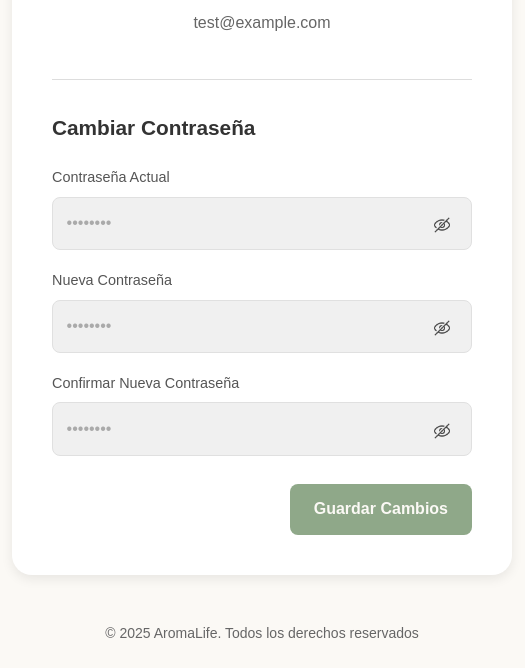
Scenario: UserProfilePage › debería mostrar errores si los campos de contraseña están vacíos al enviar el formulario
(page scrolled)
Click the button "Guardar Cambios": (381, 509) [290,484,472,535]
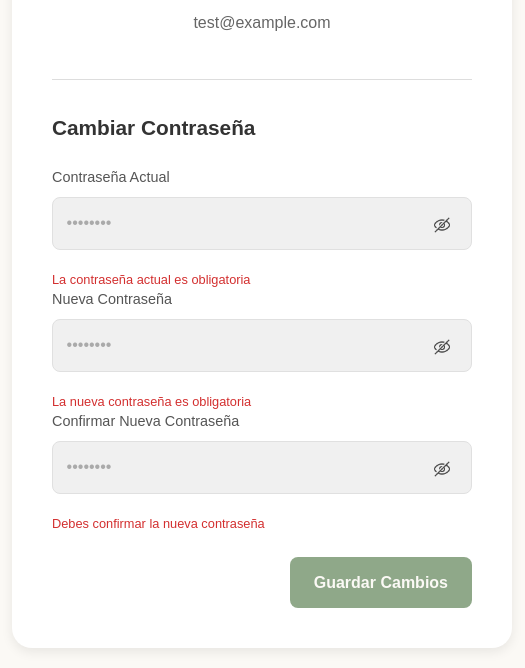
Result: the text "La contraseña actual es obligatoria" is shown at [52,272,250,287]
Result: the text "La nueva contraseña es obligatoria" is shown at [52,394,251,409]
Result: the text "Debes confirmar la nueva contraseña" is shown at [52,516,265,531]
